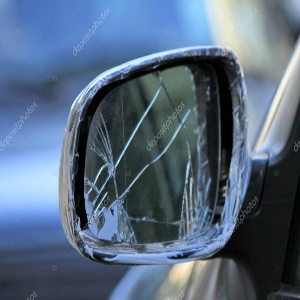side_mirror: (79, 75, 239, 258)
